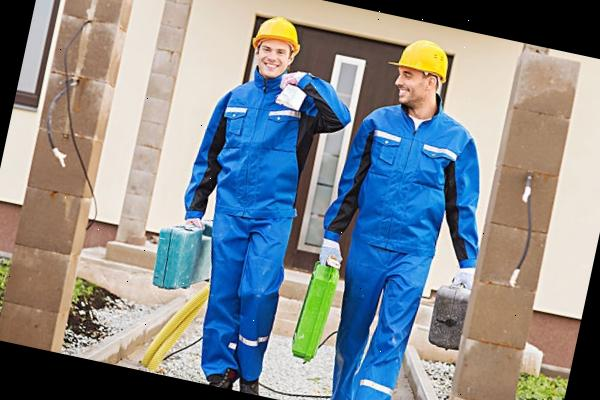helmet: (386, 34, 454, 82), (254, 13, 306, 54)
wear: (346, 104, 474, 260), (208, 72, 329, 233)
